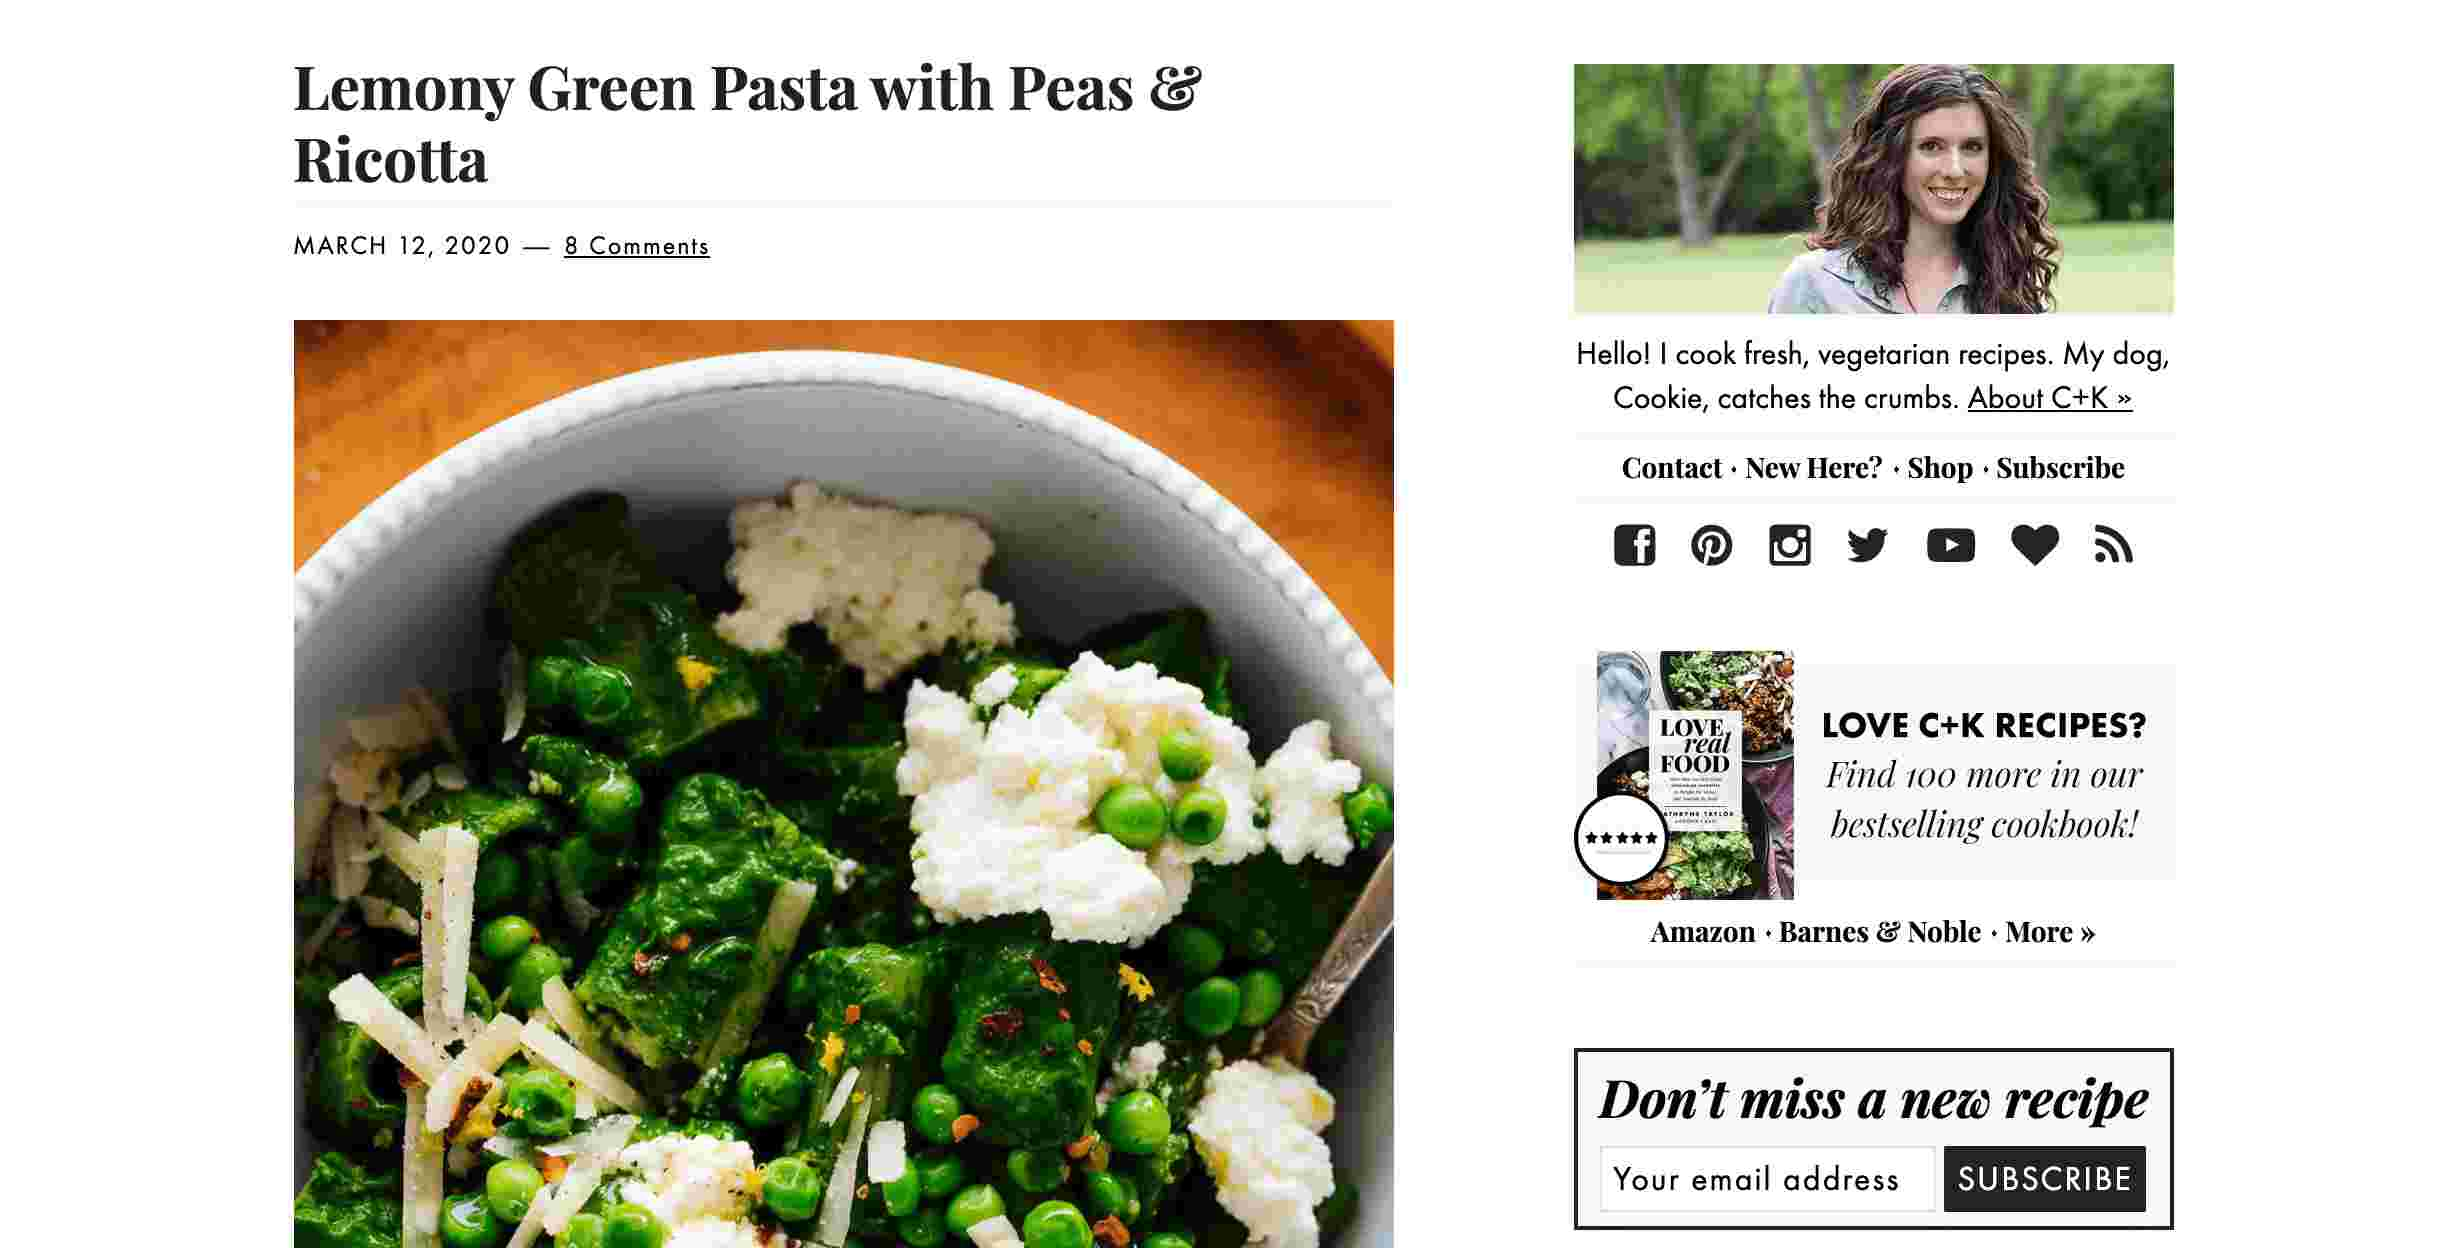Button: (1941, 1143, 2143, 1208)
Image: (278, 307, 1391, 1248), (1578, 62, 2182, 317)
Side Bar: (1539, 51, 2202, 1248)
